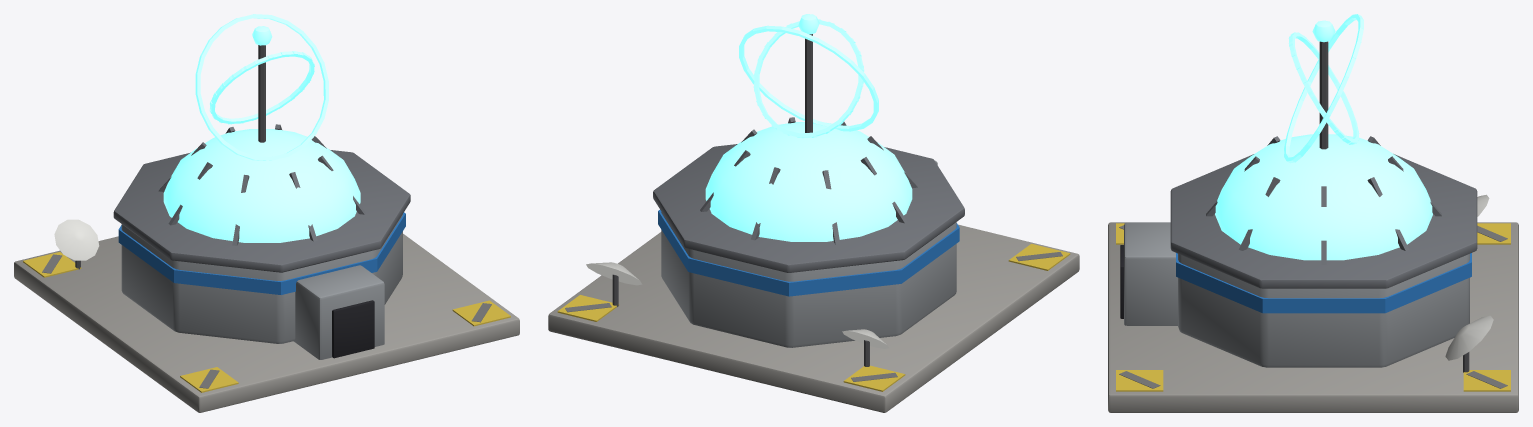
File: bld_techlab.glb
The picture shows the model from 3 angles, left to right: view 1: azimuth 30°, elevation 25°; view 2: azimuth 150°, elevation 25°; view 3: azimuth 270°, elevation 25°; orthographic projection. The views are drawn at different scales.
Parts seen in each view (by area): view 1: shell, foundation, structure, fittings, ring1, ring2; view 2: shell, foundation, structure, fittings, ring1, ring2; view 3: shell, foundation, structure, fittings, ring1, ring2.
Boxes of the visible parts, box(x1,y1,x2,y2) form: shell: box(113, 124, 410, 358); foundation: box(14, 234, 519, 412); structure: box(121, 214, 402, 359); fittings: box(54, 26, 272, 269); ring1: box(195, 14, 328, 160); ring2: box(209, 51, 314, 124); shell: box(653, 117, 964, 296); foundation: box(548, 224, 1079, 412); structure: box(661, 160, 956, 347); fittings: box(586, 14, 888, 366); ring1: box(739, 25, 878, 131); ring2: box(753, 19, 864, 138); shell: box(1120, 134, 1477, 318); foundation: box(1108, 222, 1518, 412); structure: box(1124, 222, 1469, 367); fittings: box(1312, 20, 1493, 372); ring1: box(1284, 14, 1363, 163); ring2: box(1288, 32, 1359, 144).
Bounding box in the file's own units: 7.8 × 6.42 × 7.8.
